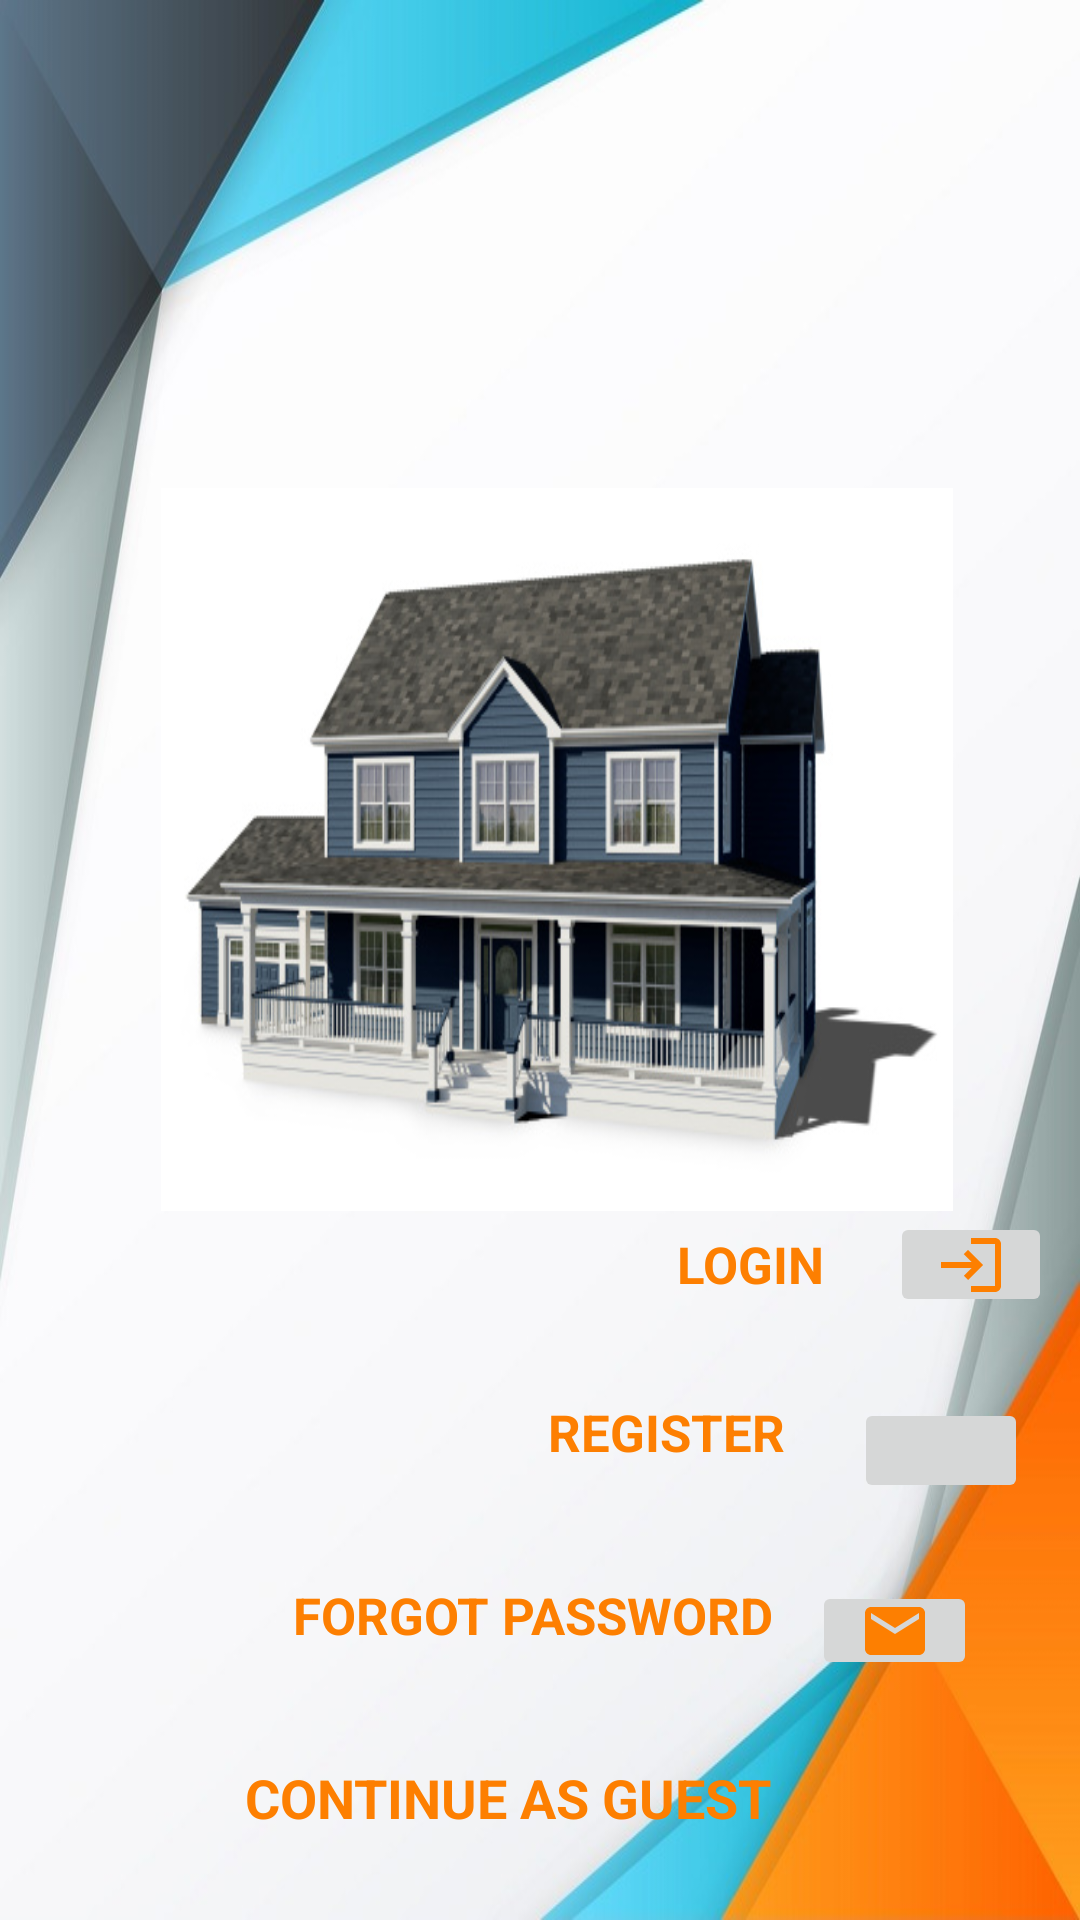

Where to tap for icons on this 1080 x 1920 app screen, as (x=x, y=y):
email: (x=894, y=1630)
